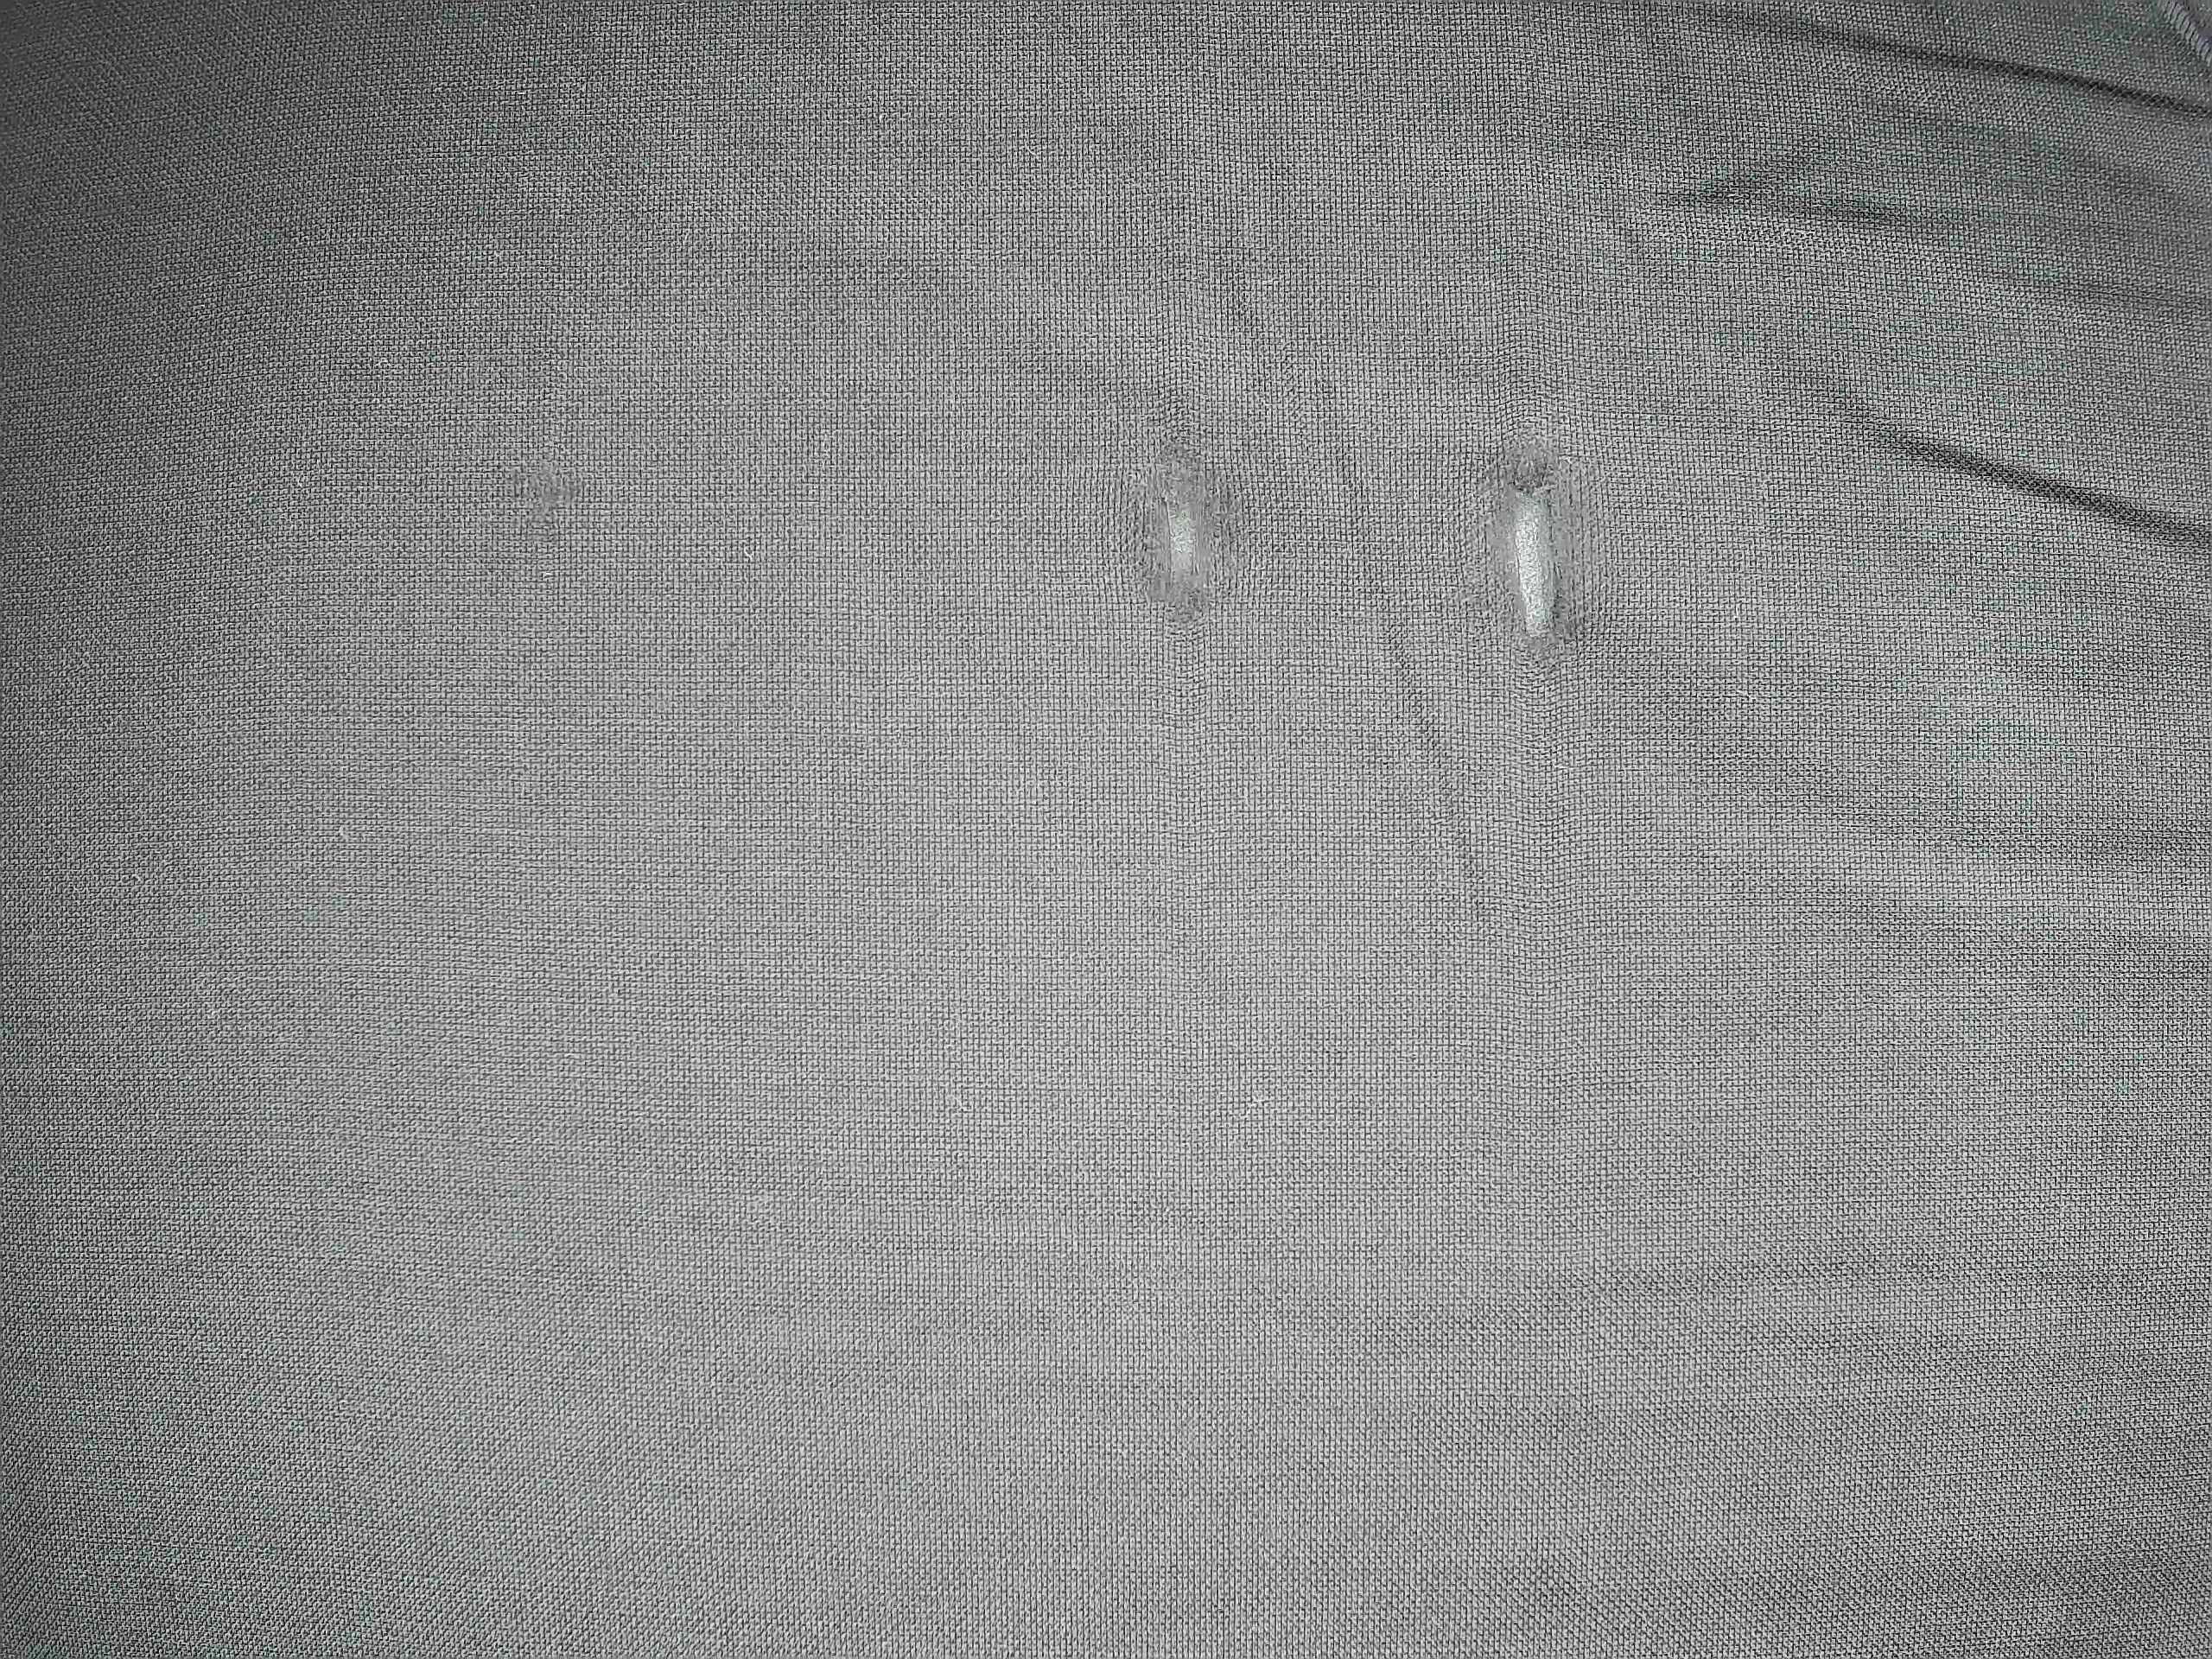rubbing-hole: (1108, 430, 1259, 626), (1477, 437, 1601, 662), (503, 448, 597, 547)
